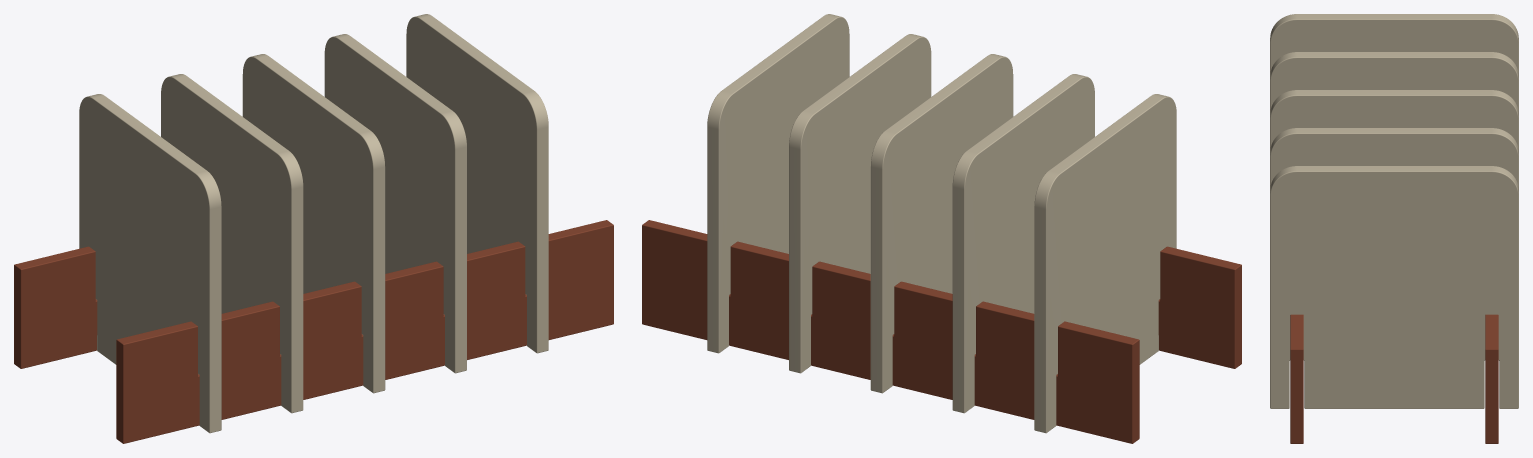
3 views of the same model, side by side, from view 1: azimuth 30°, elevation 25°; view 2: azimuth 150°, elevation 25°; view 3: azimuth 270°, elevation 25° (orthographic). The views are drawn at different scales.
Parts seen in each view (by area): view 1: Rail 1, Divider 1, Divider 3, Divider 2, Divider 4, Divider 5, Rail 2; view 2: Rail 2, Divider 1, Divider 3, Divider 2, Divider 4, Divider 5, Rail 1; view 3: Divider 5, Divider 1, Divider 2, Divider 3, Divider 4, Rail 1, Rail 2.
Part boxes in pixels (x1,y1,x2,y2): Rail 1: (116, 220, 613, 443); Divider 1: (79, 94, 221, 433); Divider 3: (242, 54, 385, 393); Divider 2: (161, 74, 303, 413); Divider 4: (324, 34, 466, 373); Divider 5: (406, 14, 548, 353); Rail 2: (14, 246, 97, 368); Rail 2: (642, 220, 1139, 443); Divider 1: (1034, 94, 1176, 433); Divider 3: (870, 54, 1013, 393); Divider 2: (952, 74, 1094, 413); Divider 4: (789, 34, 931, 373); Divider 5: (707, 14, 849, 353); Rail 1: (1158, 246, 1241, 368); Divider 5: (1270, 166, 1518, 408); Divider 1: (1270, 14, 1518, 75); Divider 2: (1270, 52, 1518, 113); Divider 3: (1270, 90, 1518, 151); Divider 4: (1270, 128, 1518, 189); Rail 1: (1290, 314, 1303, 443); Rail 2: (1485, 314, 1498, 443).
Bounding box in the file's own units: 0.36 × 0.175 × 0.166.
